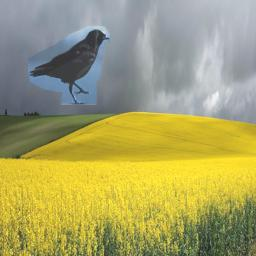Crow: (28, 26, 110, 105)
